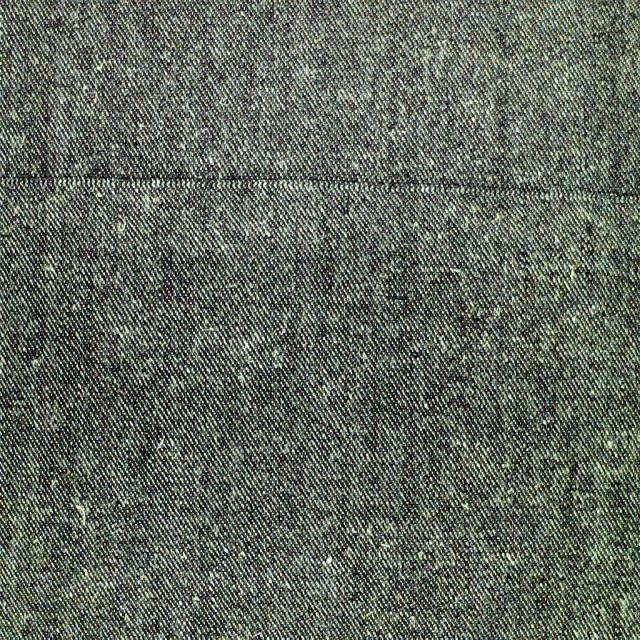Line: (0, 172, 640, 203)
